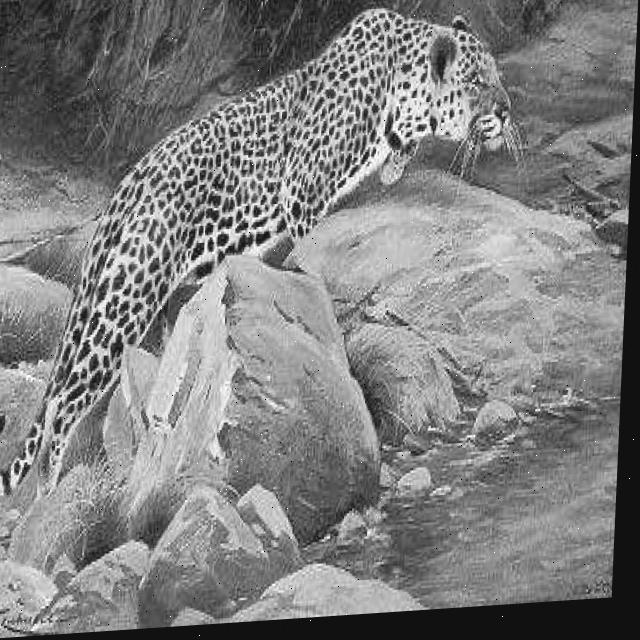Leopard: (0, 0, 530, 504)
